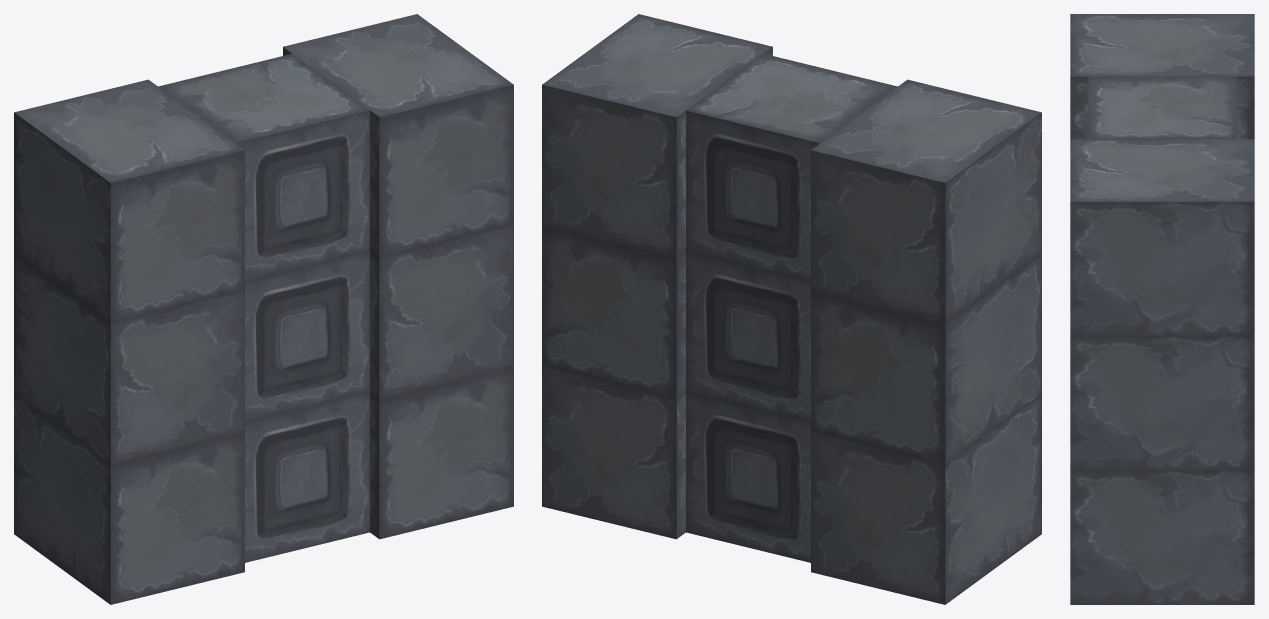
The model's file is Castle Deco Pilar Wide 3.fbx.
3 views of the same model, side by side, from view 1: azimuth 30°, elevation 25°; view 2: azimuth 150°, elevation 25°; view 3: azimuth 270°, elevation 25° (orthographic). The views are drawn at different scales.
Parts seen in each view (by area): view 1: Castle Deco Pilar Wide 3; view 2: Castle Deco Pilar Wide 3; view 3: Castle Deco Pilar Wide 3.
Part boxes in pixels (<box>): Castle Deco Pilar Wide 3: <box>14,14,513,604</box>; Castle Deco Pilar Wide 3: <box>542,14,1041,604</box>; Castle Deco Pilar Wide 3: <box>1070,14,1254,604</box>.
Bounding box in the file's own units: 2.25 × 2.25 × 0.9335.
